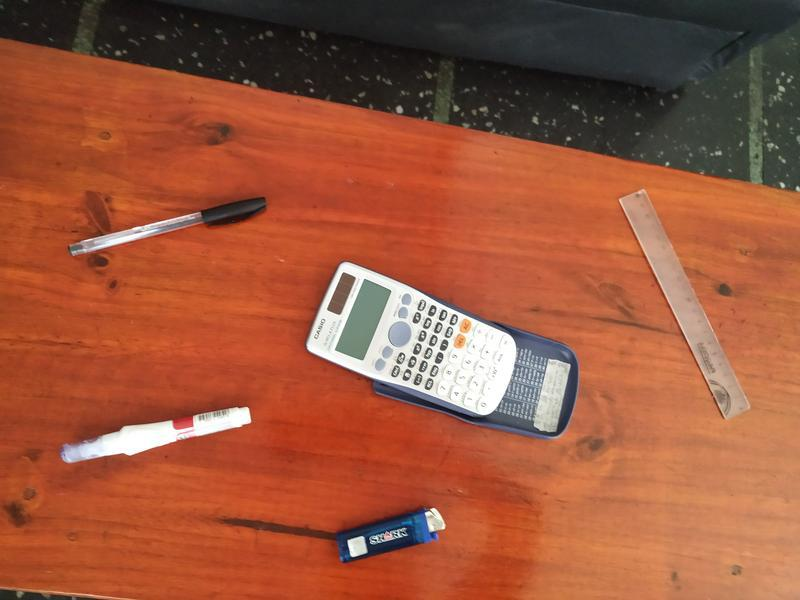calculadora: (299, 253, 518, 423)
corrector: (56, 401, 256, 469)
encendedor: (329, 497, 449, 572)
lapicera: (62, 186, 270, 262)
regla: (598, 174, 755, 432)
